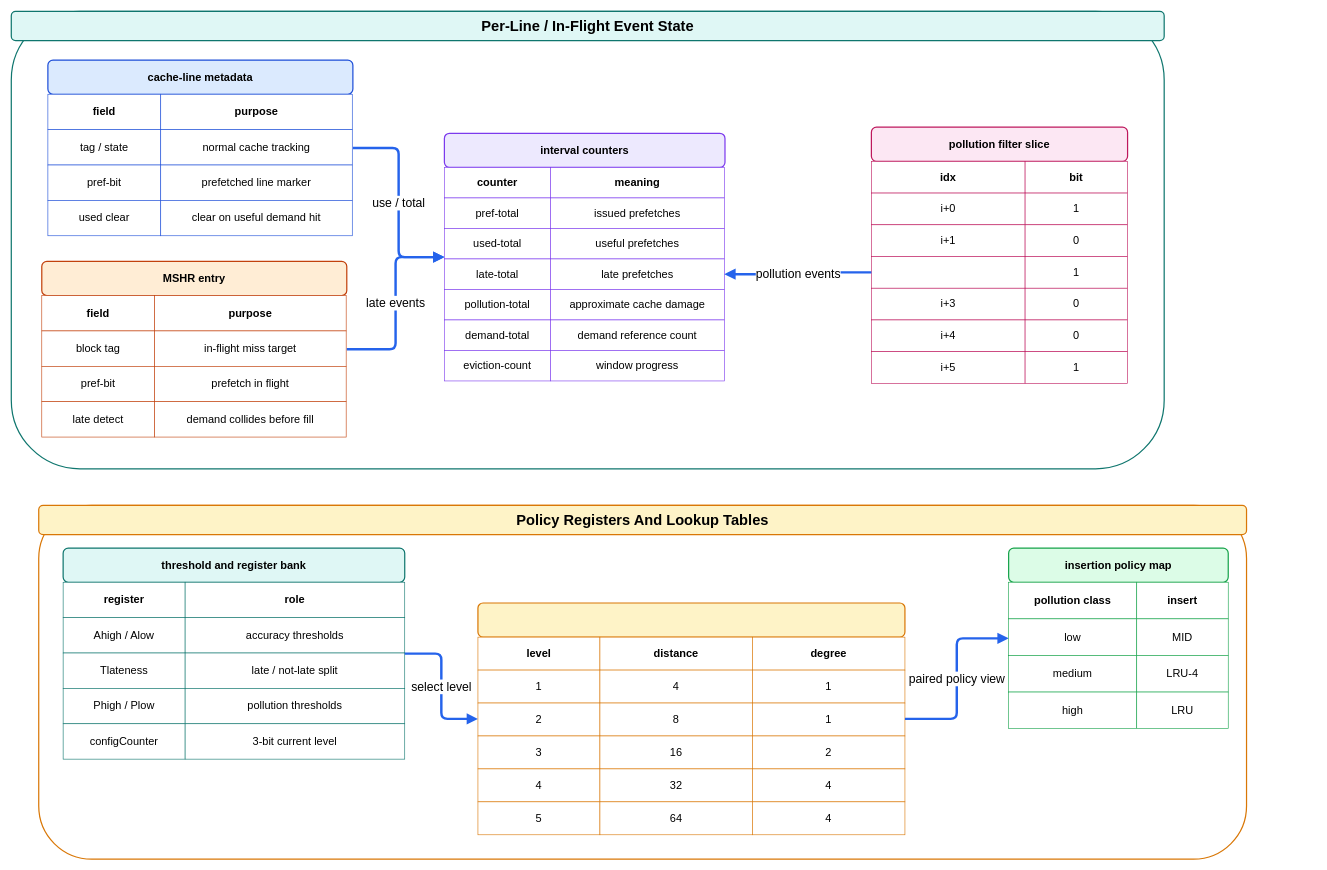
This 1327x870 diagram has some shape labels left out. The box of each missing label's shape, as (x1, y1, x2, y2) in pixels:
aggressiveness levels: (477, 602, 905, 637)
i+2: (871, 256, 1025, 288)
